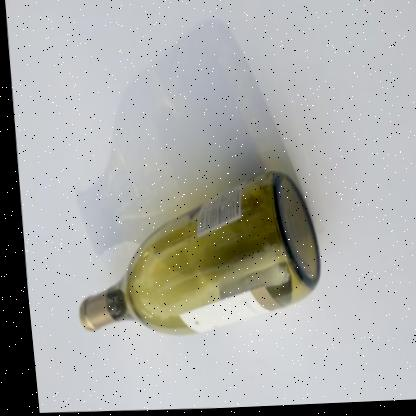Glass: (71, 173, 314, 334)
